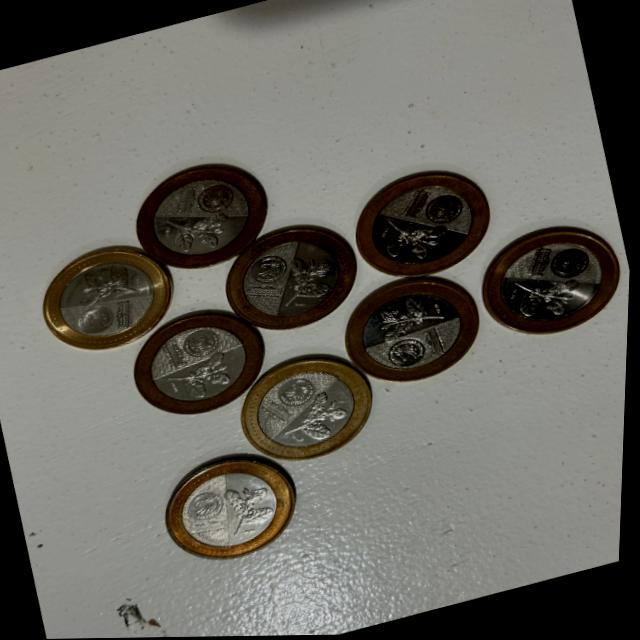20_New_Back: (282, 381, 364, 447), (374, 290, 452, 348), (516, 268, 589, 325), (74, 257, 153, 308), (166, 207, 241, 259), (276, 250, 339, 311), (169, 352, 238, 406), (384, 214, 452, 267), (225, 483, 285, 538)
